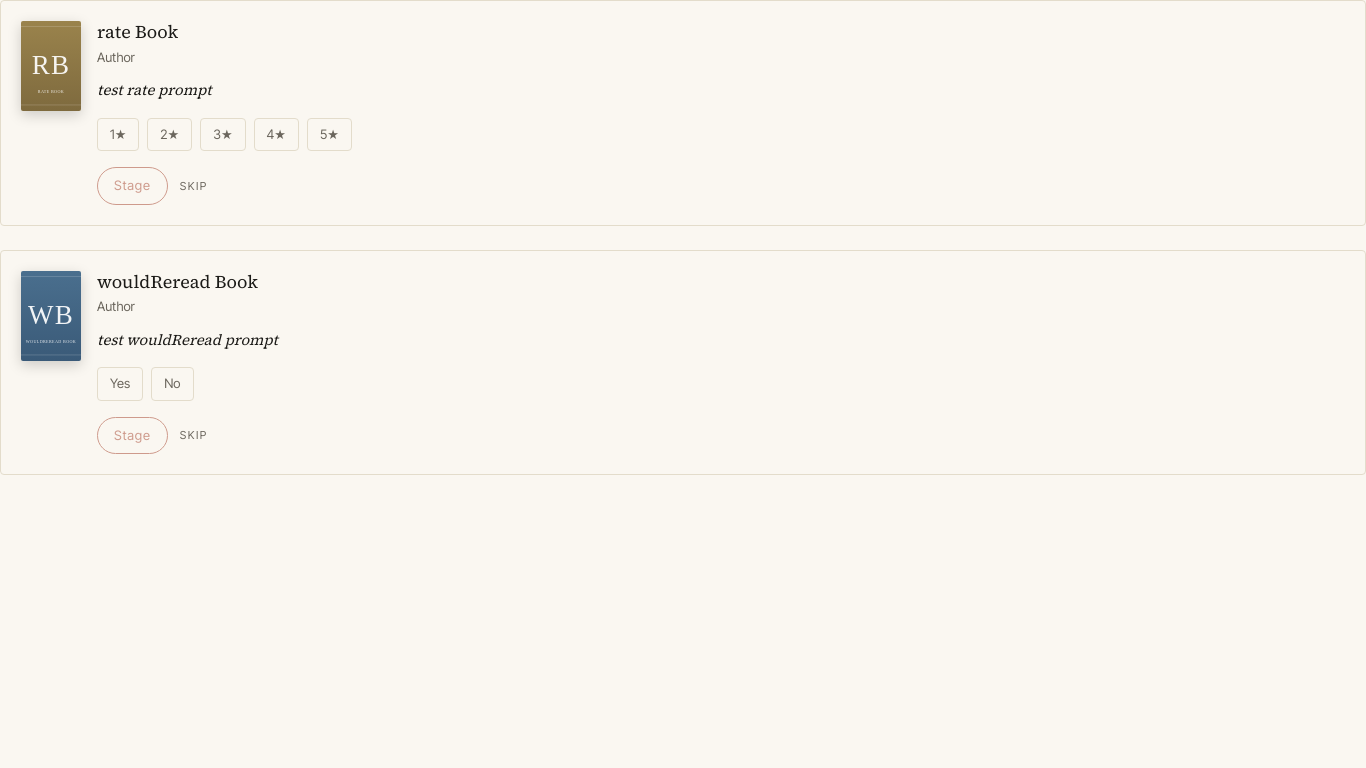
Test: BackfillCards — staging UI › Discard all returns staged cards to pending and clears the queue
Click the button named "3 stars".
click(223, 134)  # box [200,118,246,151]
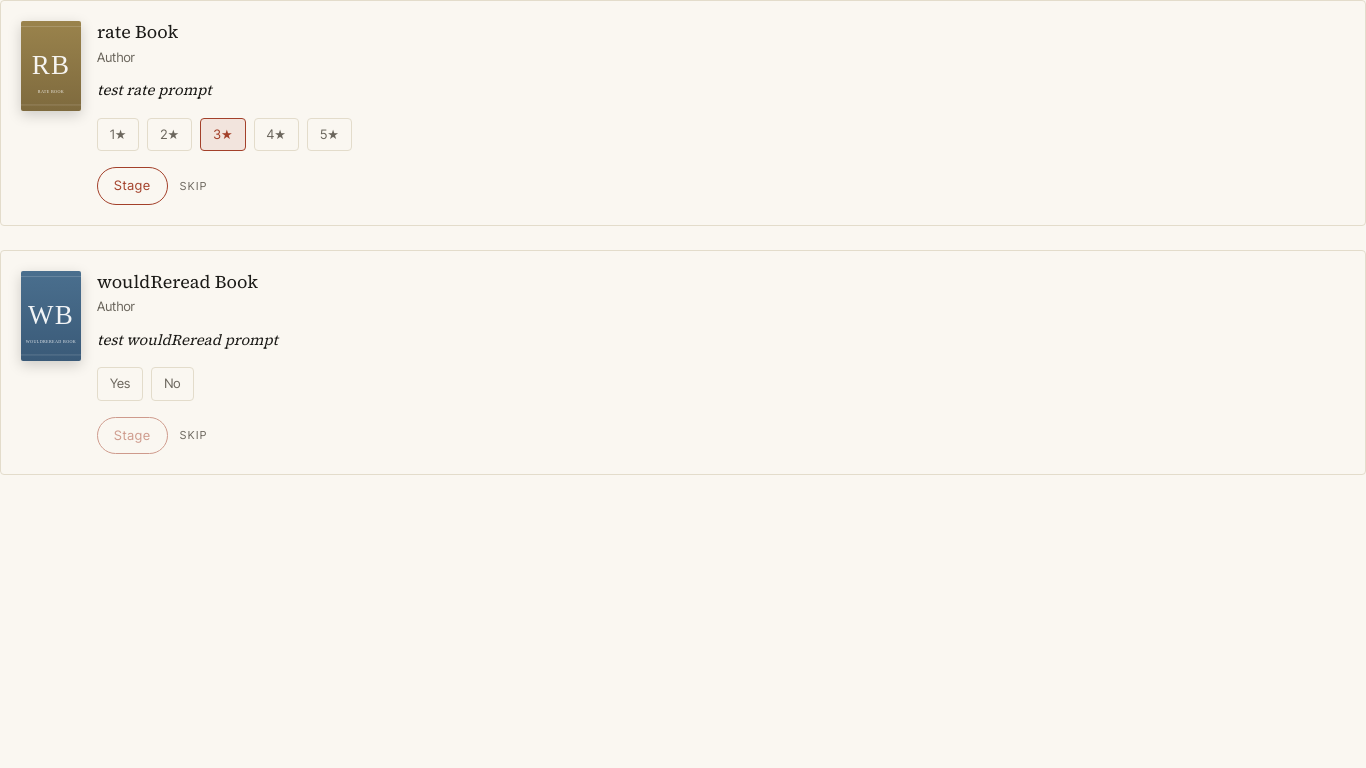
Click the button "Stage" below "test rate prompt".
click(132, 186)  # box [97,167,168,204]
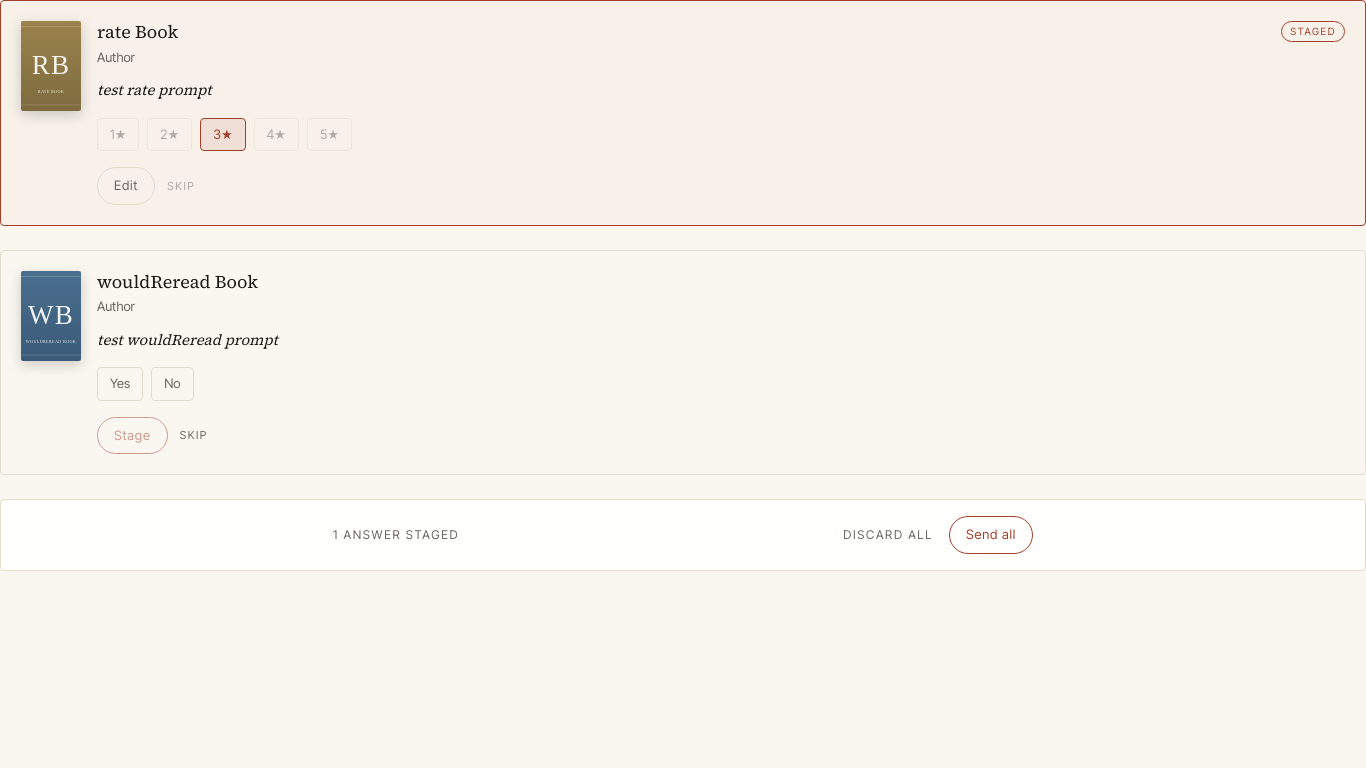
Click the button "Yes".
click(120, 384)  # box [97,367,143,400]
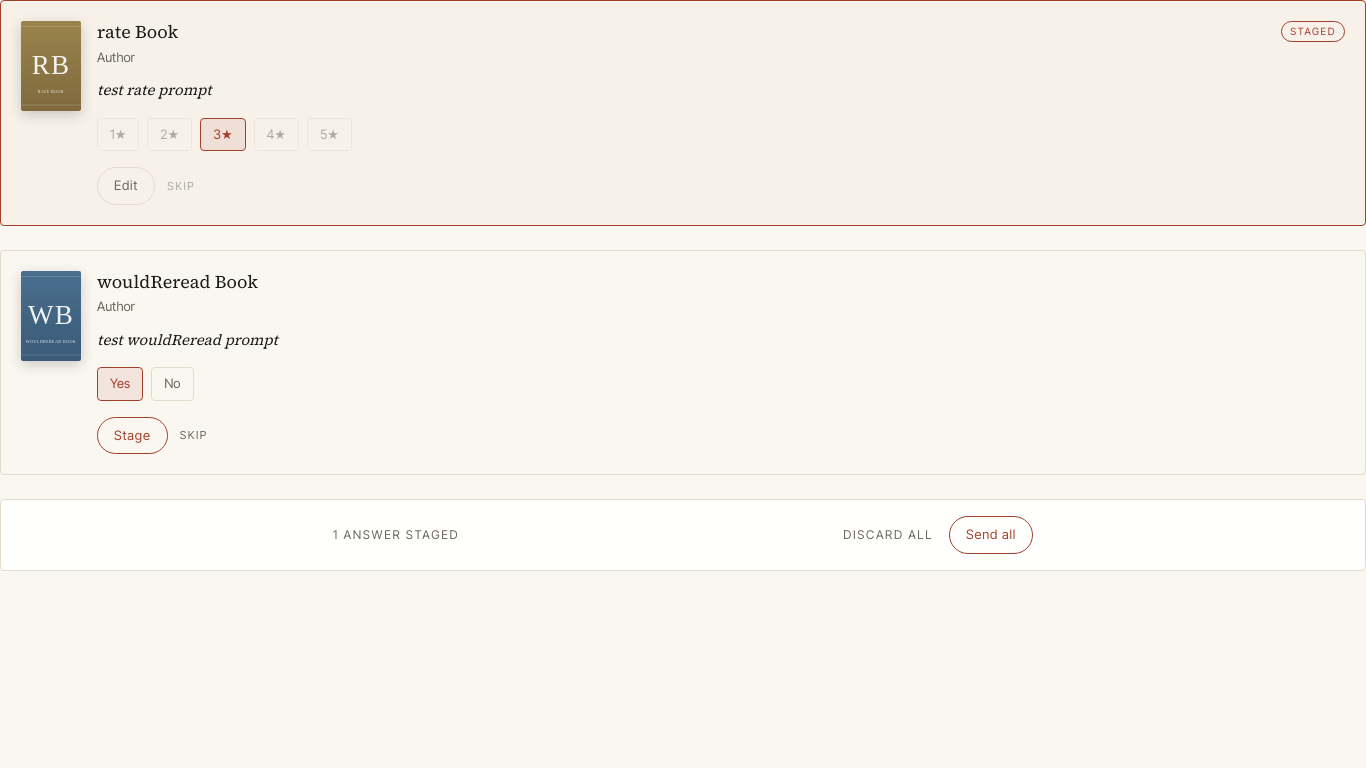
Click the button "Stage".
click(132, 435)  # box [97,416,168,454]
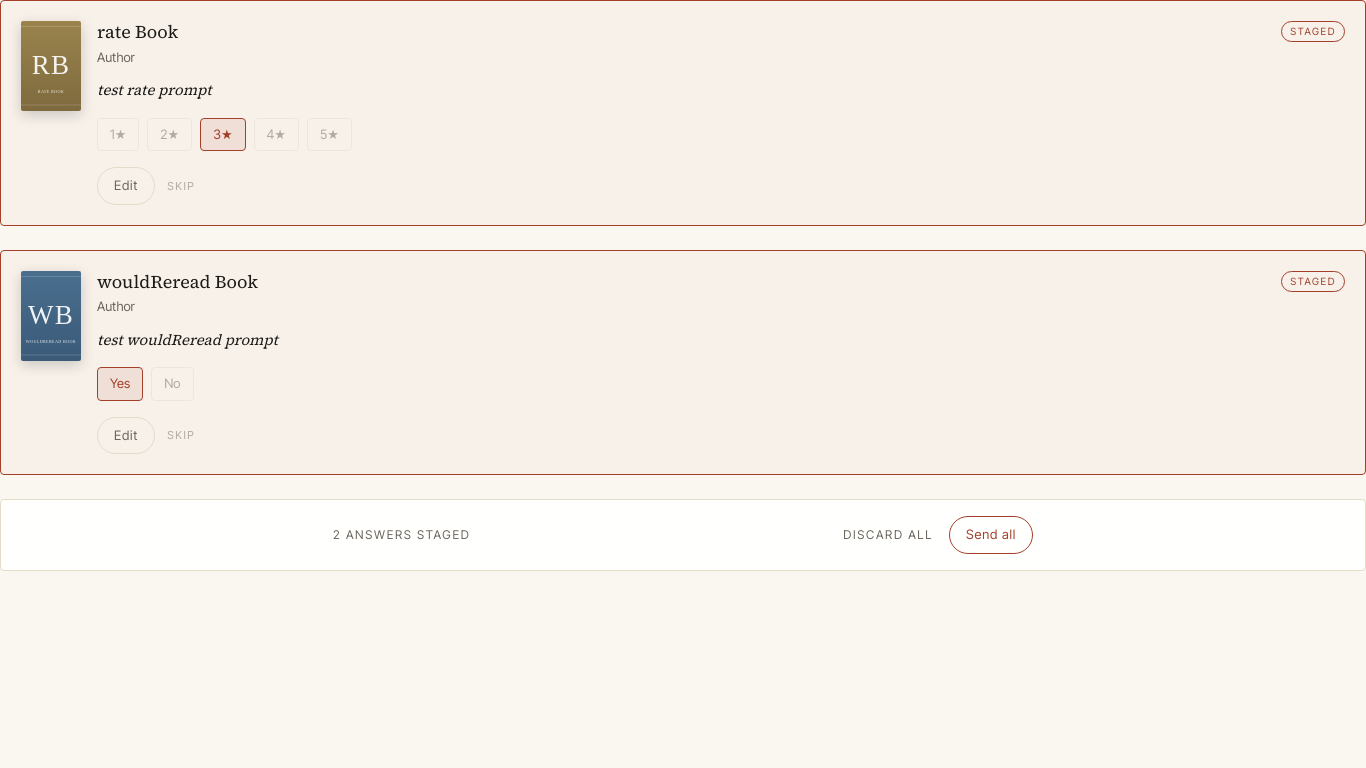
Expected: the text "2 answers staged" is shown, [333,526,470,544]
Click the button "Discard all".
click(888, 535)  # box [843,526,933,544]
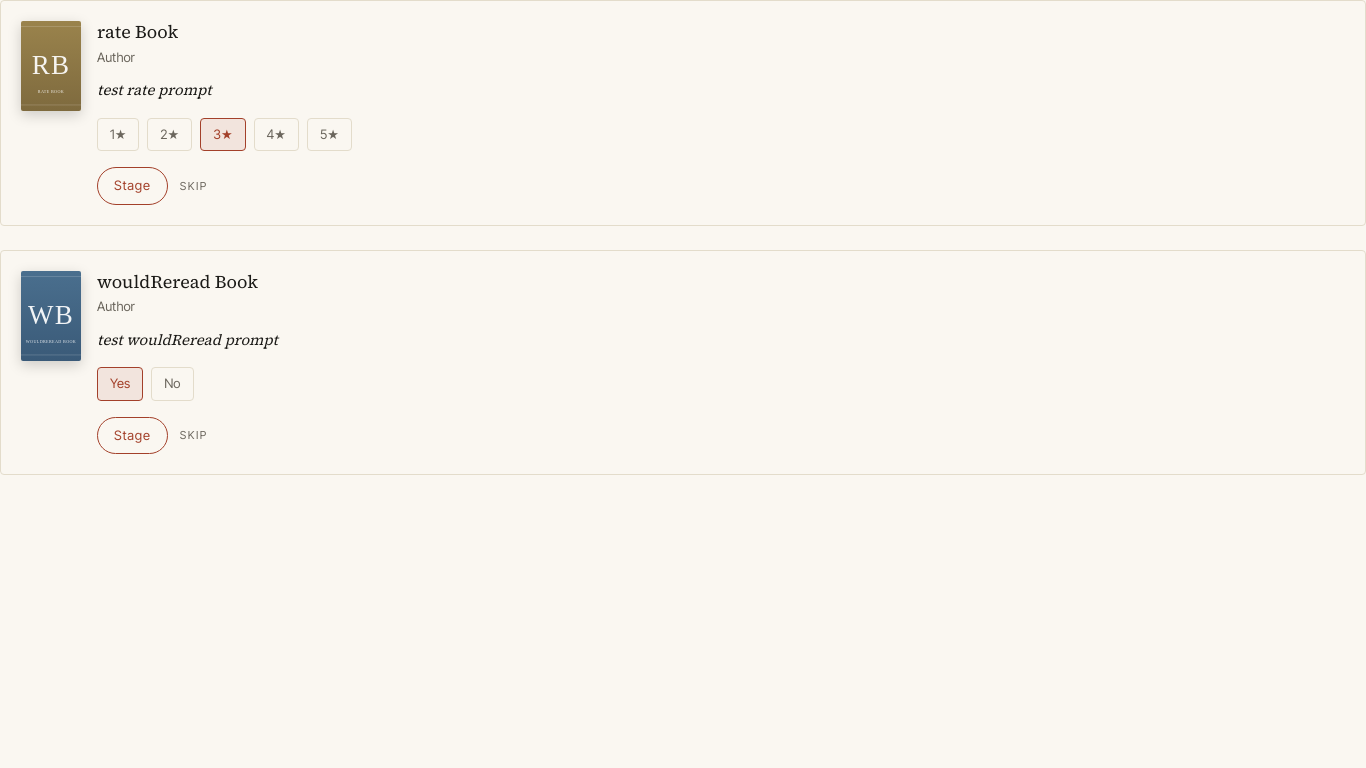
Expected: the element with test id "stage-footer" is gone
Expected: the number of buttons "Stage" is 2, [97,167,168,204]; [97,416,168,454]
